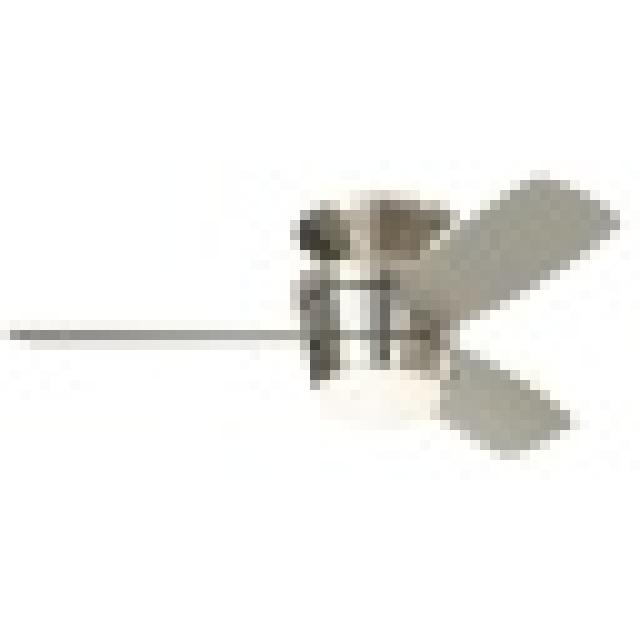Bulb: (19, 182, 616, 451)
